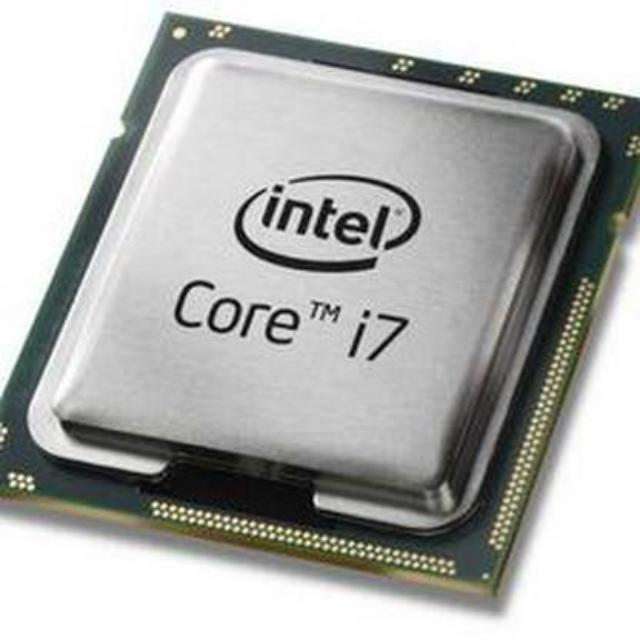CPU: (32, 27, 588, 584)
